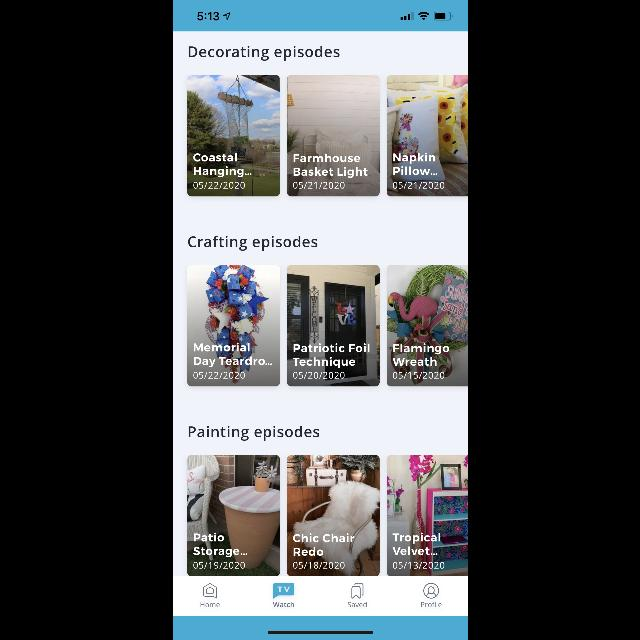icon: (272, 584, 294, 598), (424, 584, 438, 598), (202, 584, 216, 598), (351, 584, 363, 598)
image: (186, 455, 280, 575), (186, 266, 280, 386), (286, 76, 379, 196), (287, 455, 379, 575), (287, 266, 379, 386), (187, 76, 279, 196), (387, 455, 468, 575), (387, 266, 468, 386), (387, 76, 468, 196)
text: (188, 47, 338, 61), (193, 342, 271, 368), (292, 344, 370, 368), (188, 426, 318, 440), (188, 236, 316, 250), (293, 154, 367, 178), (292, 532, 353, 556), (193, 532, 247, 558), (193, 153, 251, 177), (392, 344, 448, 366), (392, 533, 440, 555), (393, 153, 437, 175), (292, 562, 344, 568), (192, 562, 244, 568), (292, 372, 344, 378), (192, 372, 244, 378), (292, 182, 344, 188), (192, 182, 244, 188), (392, 562, 443, 568), (392, 372, 443, 378), (392, 182, 443, 188), (200, 602, 218, 608), (272, 602, 294, 606), (421, 602, 441, 606), (348, 602, 367, 606)
uppertaskbar: (196, 12, 452, 20)
